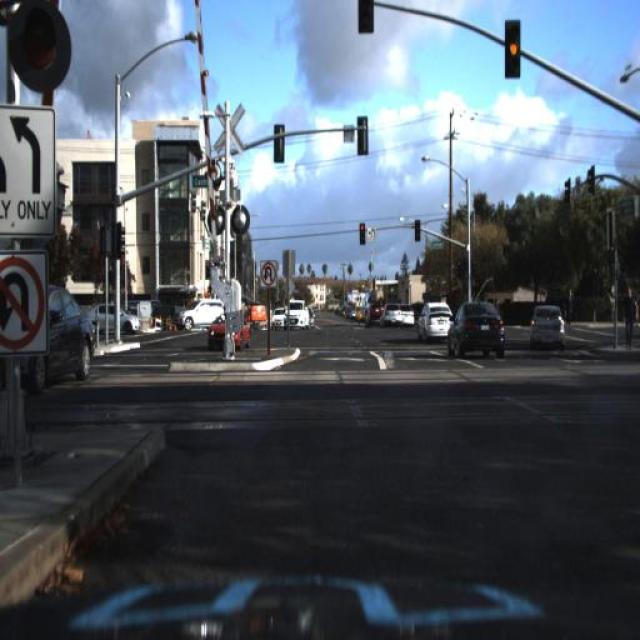car: (0, 284, 95, 388), (40, 286, 104, 376), (442, 292, 508, 370), (523, 291, 571, 364), (100, 294, 150, 348), (414, 291, 454, 351), (175, 293, 227, 335), (209, 314, 247, 354), (418, 299, 452, 341), (372, 298, 403, 334), (375, 299, 401, 329), (285, 300, 310, 329), (362, 294, 383, 328), (364, 292, 382, 328), (404, 293, 414, 329), (402, 302, 417, 323)
trafficLight: (621, 274, 637, 358), (618, 284, 638, 346), (565, 284, 580, 334)
trafficLight-Green: (503, 18, 521, 78), (356, 210, 372, 250), (412, 214, 422, 240)
trafficLight-GreenLeft: (459, 249, 470, 282)
trafficLight-RedLeft: (0, 0, 105, 100)
trafficLight-YellowLeft: (496, 12, 529, 87)
